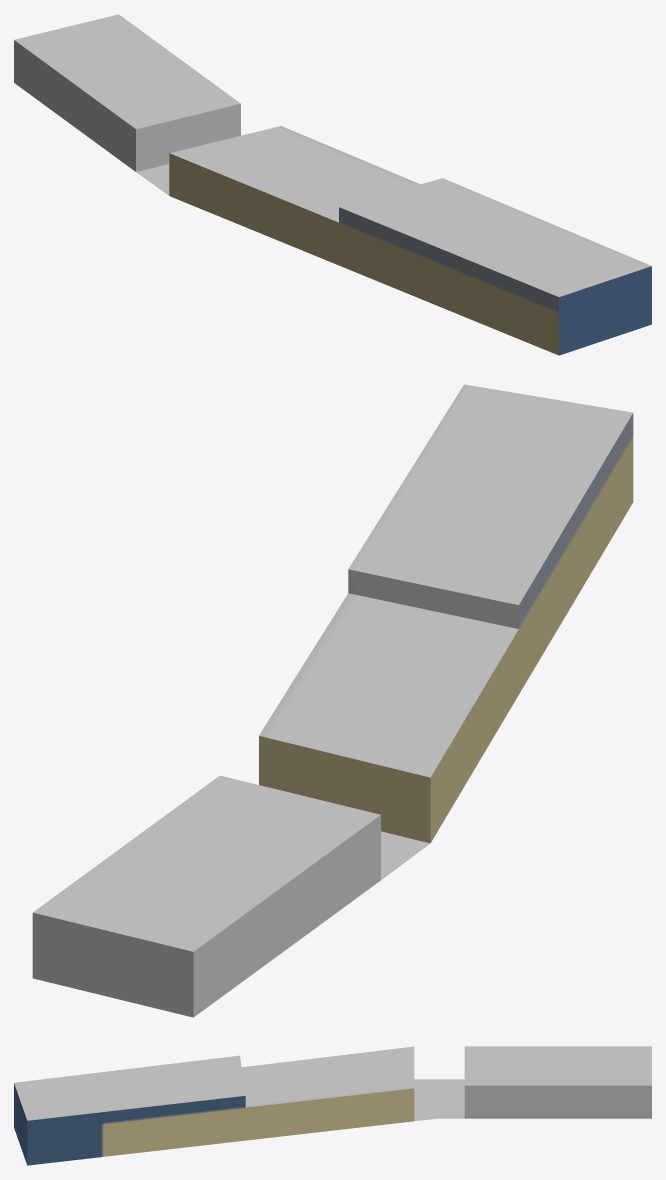
The model's file is fourthfloor.obj.
3 views of the same model, one above another, from view 1: azimuth 30°, elevation 25°; view 2: azimuth 150°, elevation 25°; view 3: azimuth 270°, elevation 25° (orthographic). The views are drawn at different scales.
Parts seen in each view (by area): view 1: soraria4f_Cube.071; view 2: soraria4f_Cube.071; view 3: soraria4f_Cube.071.
Part boxes in pixels (x1,y1,x2,y2): soraria4f_Cube.071: (14, 14, 651, 355); soraria4f_Cube.071: (32, 384, 633, 1017); soraria4f_Cube.071: (14, 1046, 651, 1165).
Size of the model in its own units: 0.6576 by 0.1591 by 2.05.
1 material, 1 textured.
